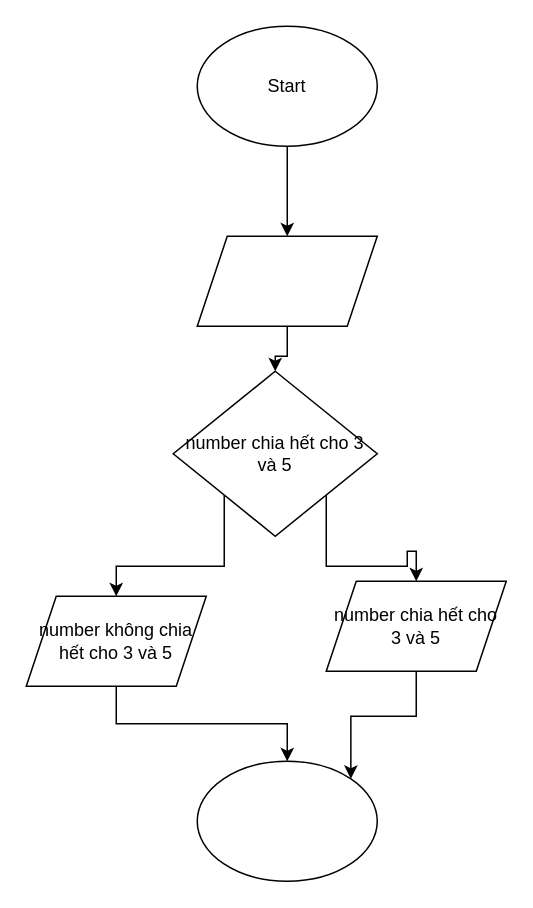
Image size: 533x908. Some labels were removed from this diagram. The shapes that lost their labels are listed below. From the top down, each one's centre as x and y in pixels, then its label:
the point at 286,280: number
the point at 286,820: End
